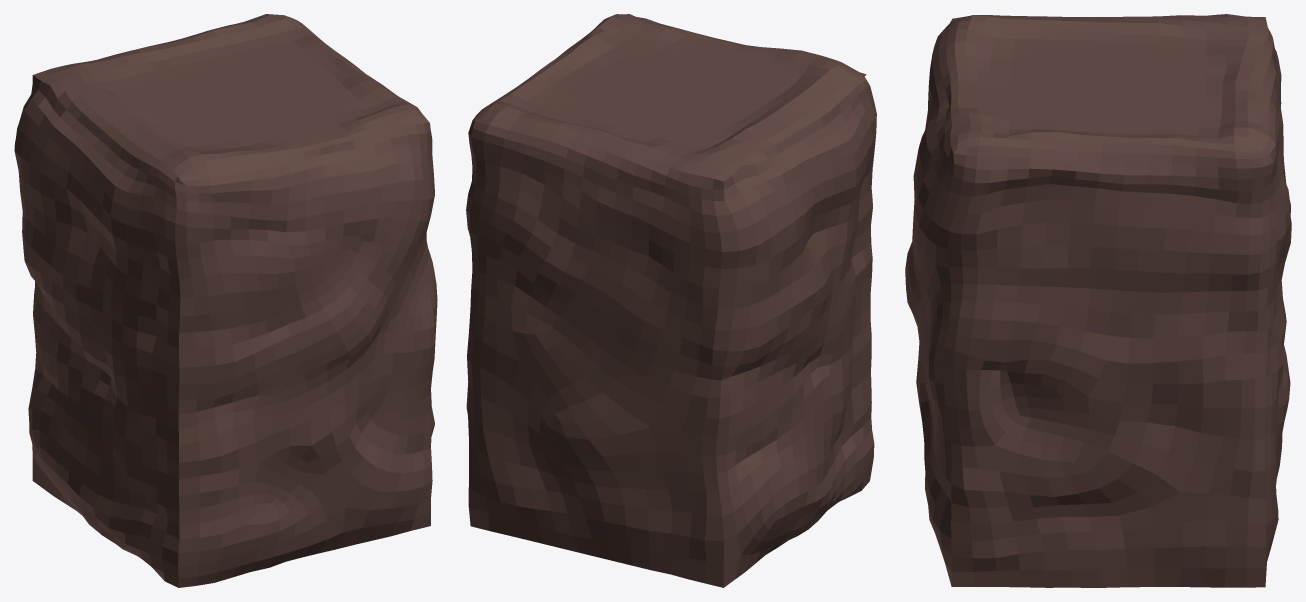
Rendered from Platform_02.fbx.
3 renders of one model, left to right at view 1: azimuth 30°, elevation 25°; view 2: azimuth 150°, elevation 25°; view 3: azimuth 270°, elevation 25°, orthographic. The views are drawn at different scales.
Parts seen in each view (by area): view 1: Retopo_Cube; view 2: Retopo_Cube; view 3: Retopo_Cube.
Part boxes in pixels (left/top/right/bottom): Retopo_Cube: left=14, top=14, right=437, bottom=587; Retopo_Cube: left=466, top=14, right=876, bottom=587; Retopo_Cube: left=905, top=14, right=1291, bottom=587.
Bounding box in the file's own units: 240 × 321 × 246.
